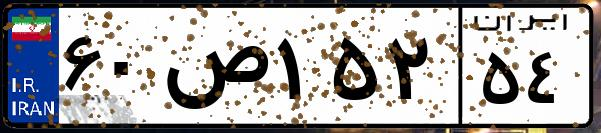0: (110, 28, 158, 98)
1: (270, 28, 330, 110)
2: (385, 28, 445, 110)
4: (525, 38, 570, 115)
5: (330, 28, 385, 110), (475, 38, 525, 113)
6: (57, 26, 110, 100)
ص: (158, 20, 270, 120)
